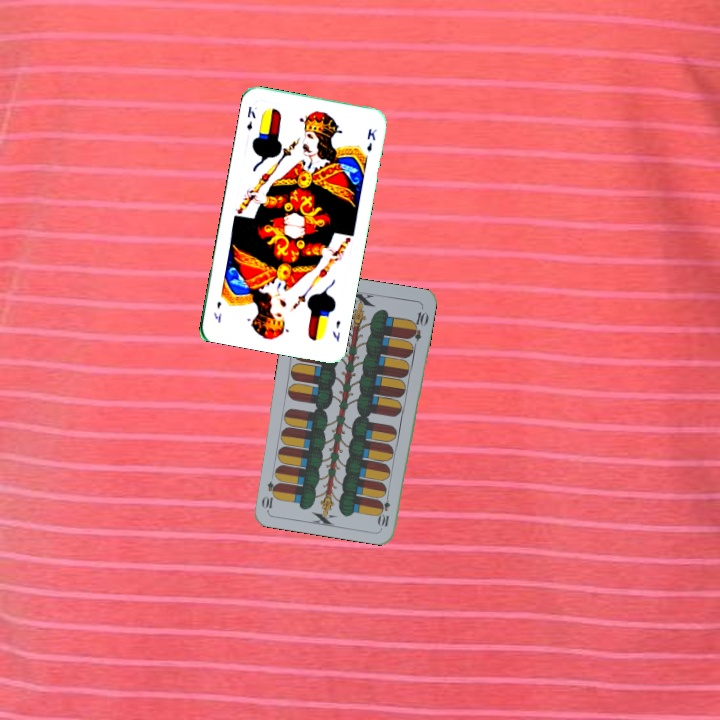E10: (376, 489, 393, 529)
EK: (243, 102, 258, 132), (328, 317, 343, 344)
